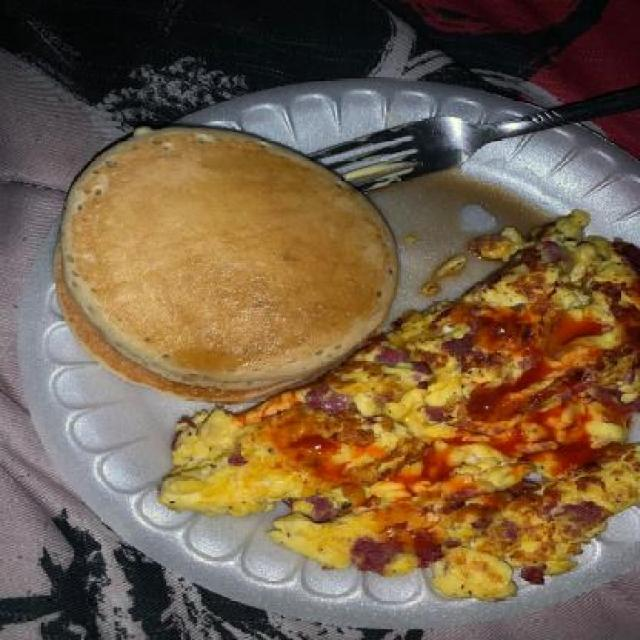omelette: (394, 223, 631, 600)
pancakes: (45, 120, 390, 395)
